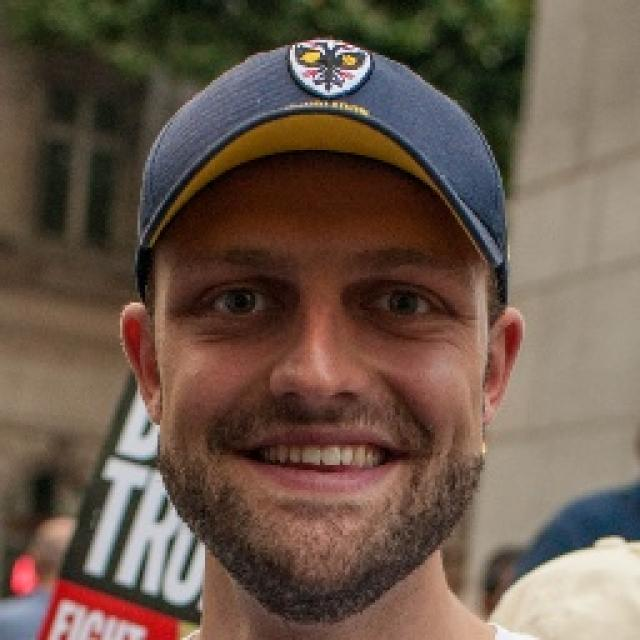earlobe: (480, 387, 502, 429), (143, 388, 164, 429)
eye: (198, 279, 275, 316), (361, 287, 439, 320)
nose: (266, 381, 364, 421)
wholeear: (120, 302, 163, 429), (479, 307, 523, 428)
